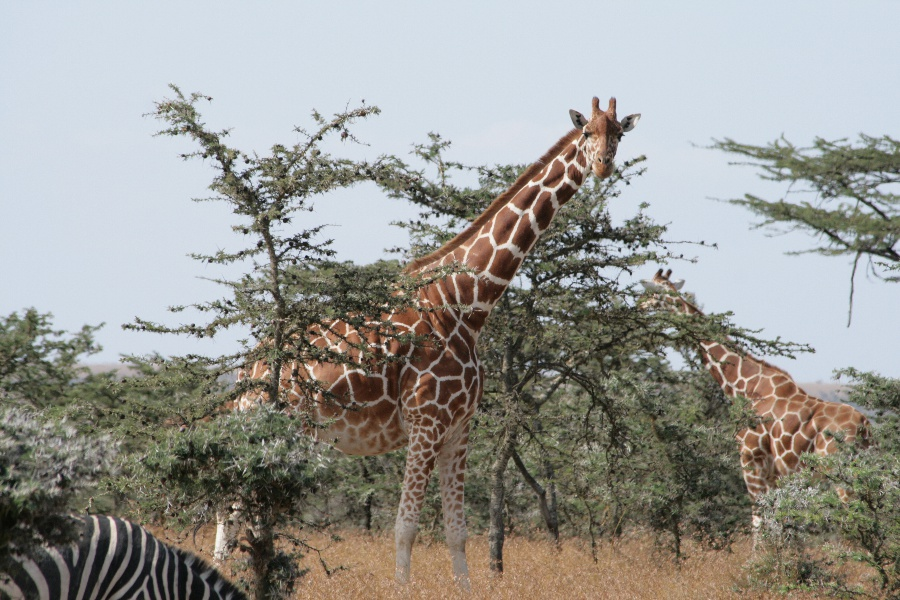giraffe: (206, 89, 647, 560), (637, 265, 893, 571)
